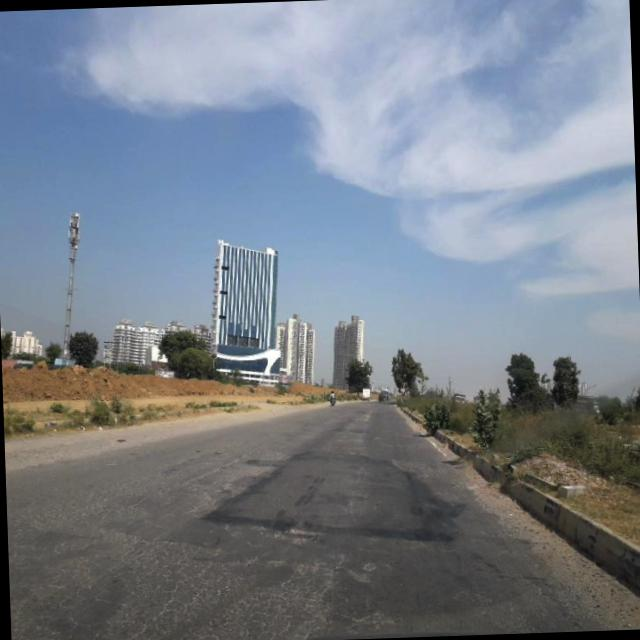crack: (4, 441, 399, 640)
